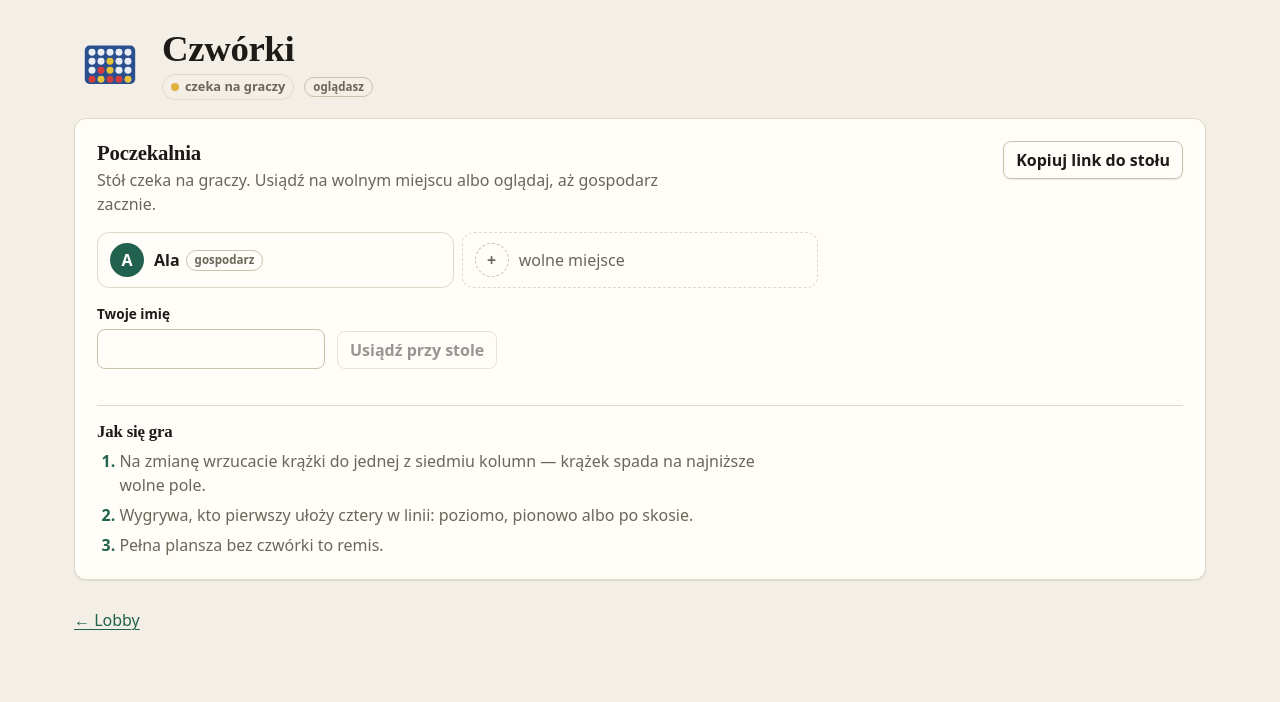
Test: sitting down at the table › shows why sitting down failed and keeps watching
Expected: the button "Usiądź przy stole" is disabled, [337, 331, 497, 369]
Type "Ola" into the field labelled "Twoje imię" at (211, 349), box [97, 329, 325, 369]
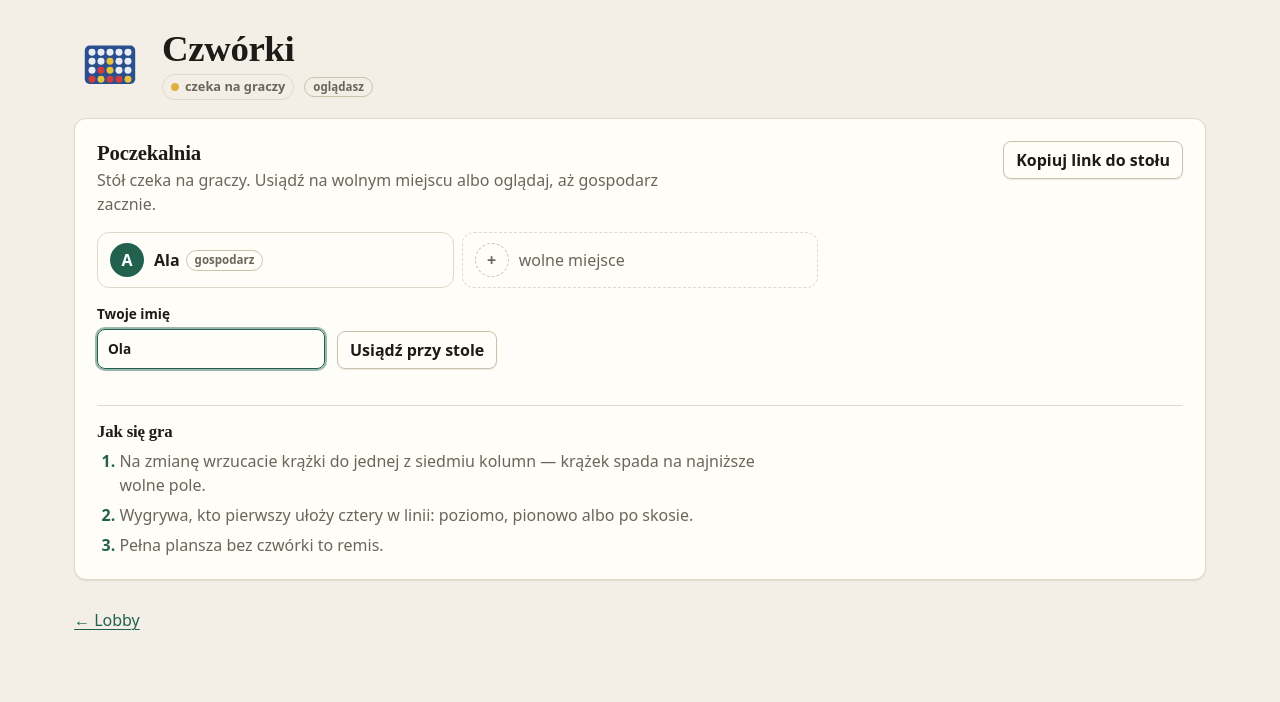
Click the button "Usiądź przy stole" at (417, 350), box [337, 331, 497, 369]
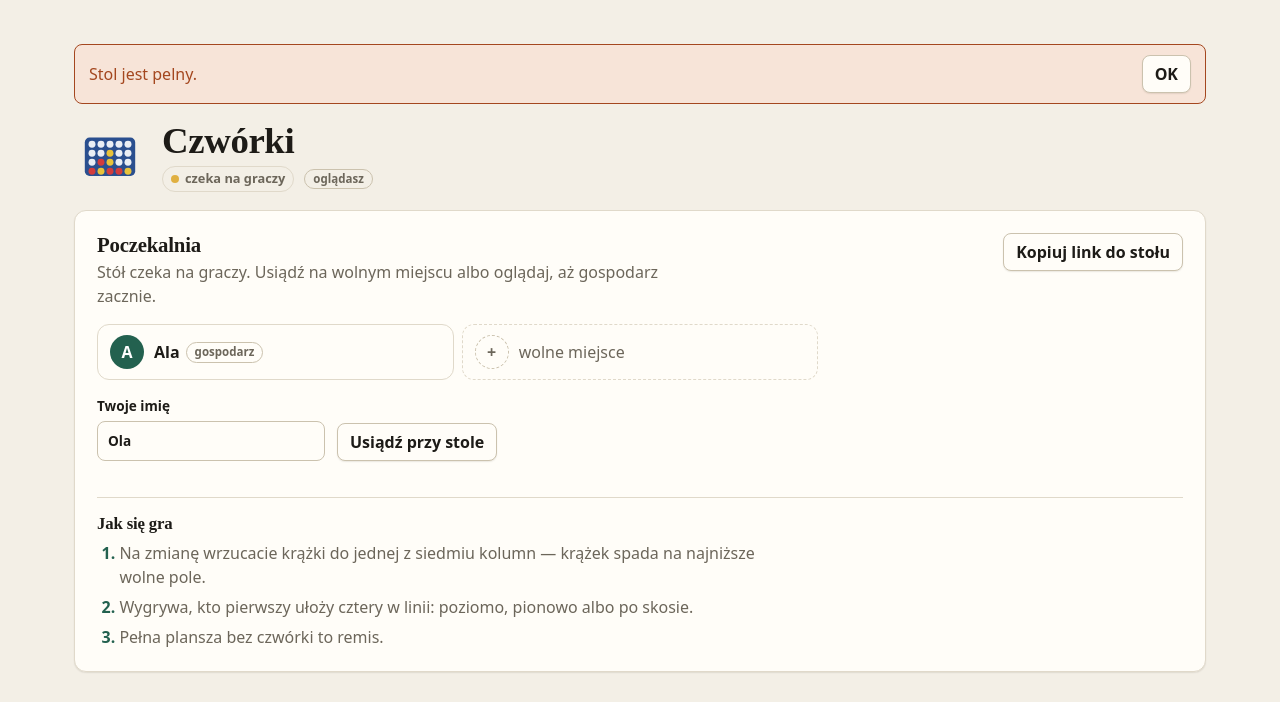
Now the message shows "Stol jest pelny.", box [89, 63, 197, 85]
Click the button "OK" at (1166, 74), box [1142, 55, 1191, 93]
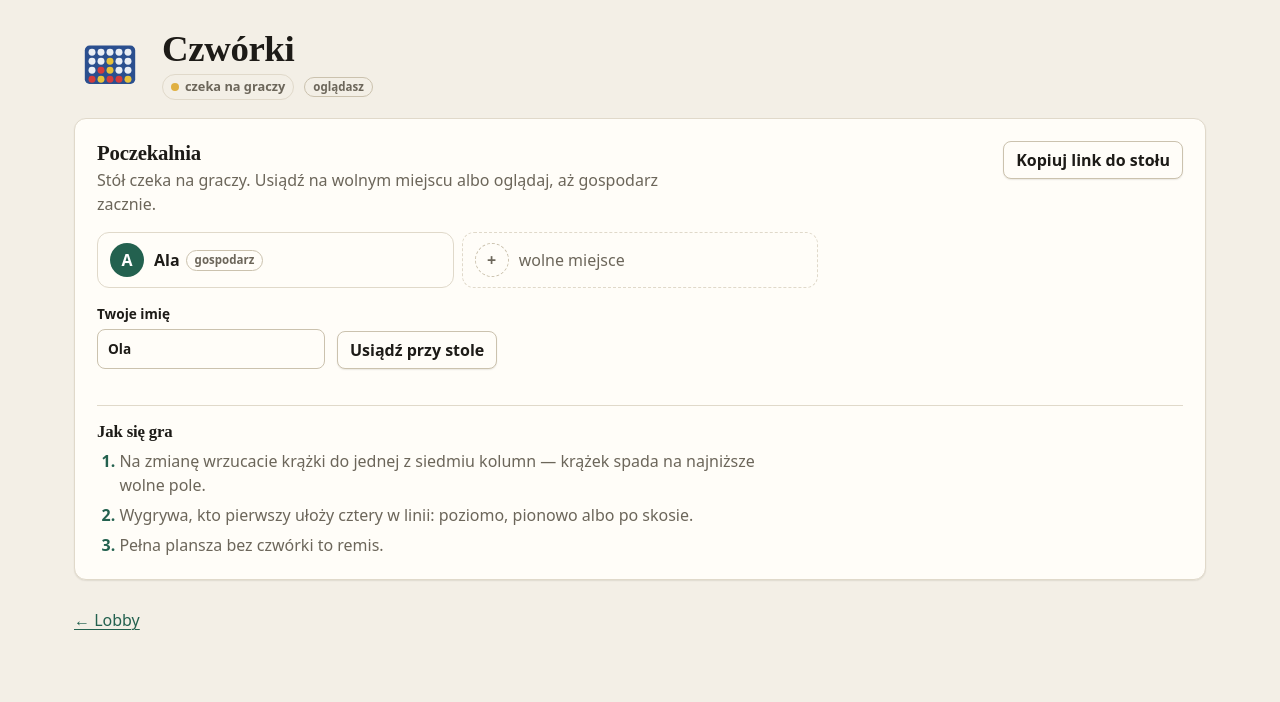
Now the message "Stol jest pelny. OK" is gone
